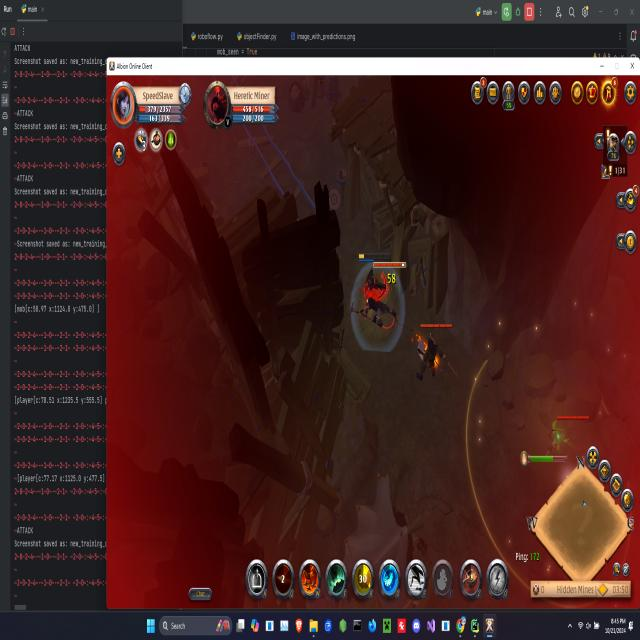ore: (348, 258, 410, 346), (532, 407, 594, 467), (411, 321, 452, 388)
red: (354, 250, 391, 326)
